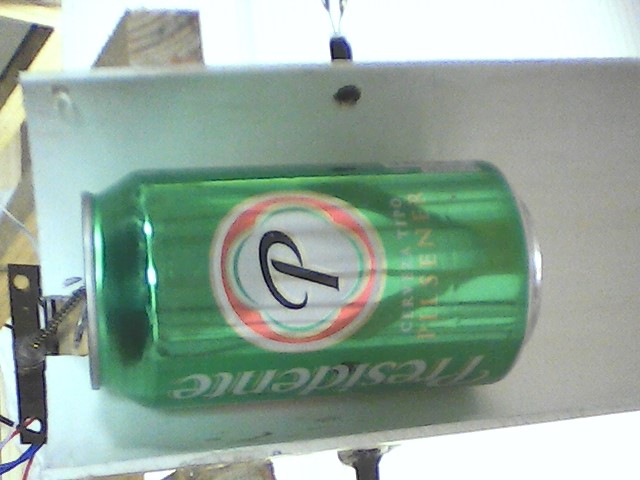lata: (79, 158, 548, 414)
